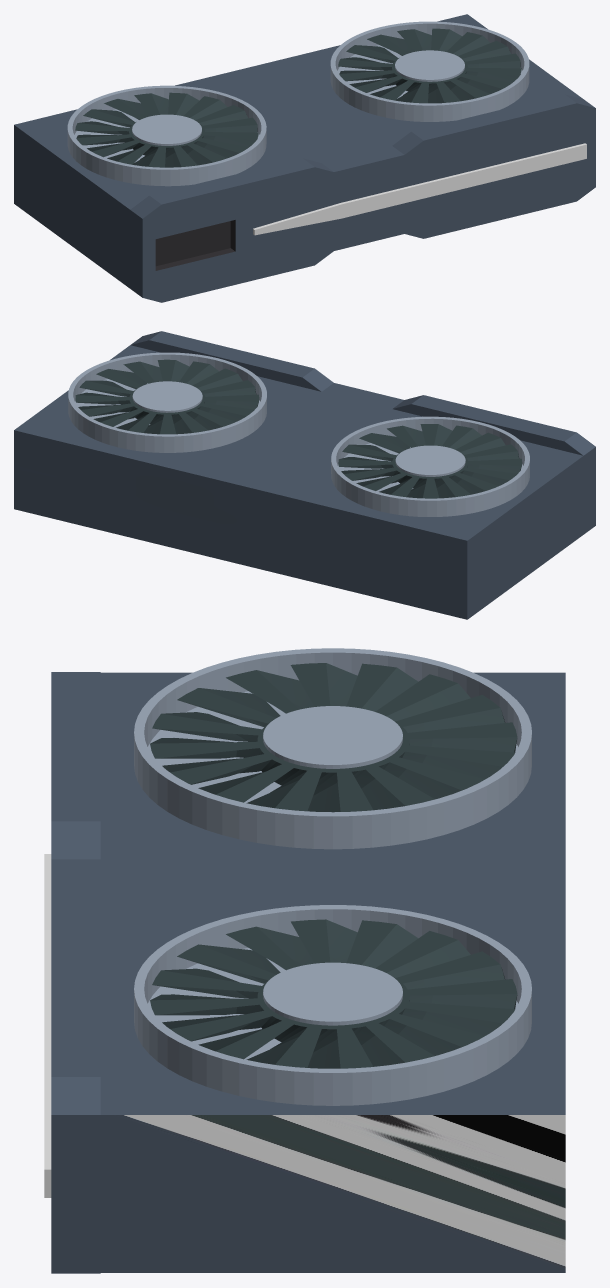
The model's file is GPU.glb.
3 renders of one model, top to bottom at view 1: azimuth 30°, elevation 25°; view 2: azimuth 150°, elevation 25°; view 3: azimuth 270°, elevation 25°, orthographic. The views are drawn at different scales.
Parts seen in each view (by area): view 1: Cube.137, Cylinder.056, Cylinder.055, Gear.016, Gear.017, Cube.107; view 2: Cube.137, Cylinder.055, Cylinder.056, Gear.016, Gear.017; view 3: Cube.137, Cylinder.055, Cylinder.056, Gear.016, Gear.017, Cube.107.
Boxes of the visible parts, bbox=[...] form: Cube.137: bbox=[14, 14, 595, 302]; Cylinder.056: bbox=[67, 85, 266, 186]; Cylinder.055: bbox=[330, 21, 529, 121]; Gear.016: bbox=[338, 28, 521, 103]; Gear.017: bbox=[75, 92, 258, 167]; Cube.107: bbox=[253, 143, 586, 235]; Cube.137: bbox=[14, 331, 595, 619]; Cylinder.055: bbox=[68, 352, 266, 452]; Cylinder.056: bbox=[331, 416, 529, 516]; Gear.016: bbox=[75, 359, 259, 434]; Gear.017: bbox=[338, 424, 522, 498]; Cube.137: bbox=[51, 672, 565, 1273]; Cylinder.055: bbox=[134, 905, 531, 1105]; Cylinder.056: bbox=[134, 648, 531, 849]; Gear.016: bbox=[150, 919, 517, 1068]; Gear.017: bbox=[150, 663, 517, 812]; Cube.107: bbox=[44, 854, 51, 1197].
Bounding box in the file's own units: 0.3291 × 0.0729 × 0.1638.
Materials: 2 (1 with a texture image).
